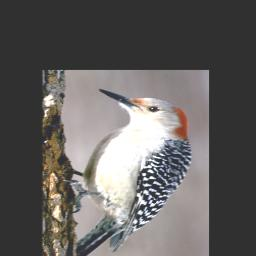Woodpecker: (64, 88, 192, 254)
